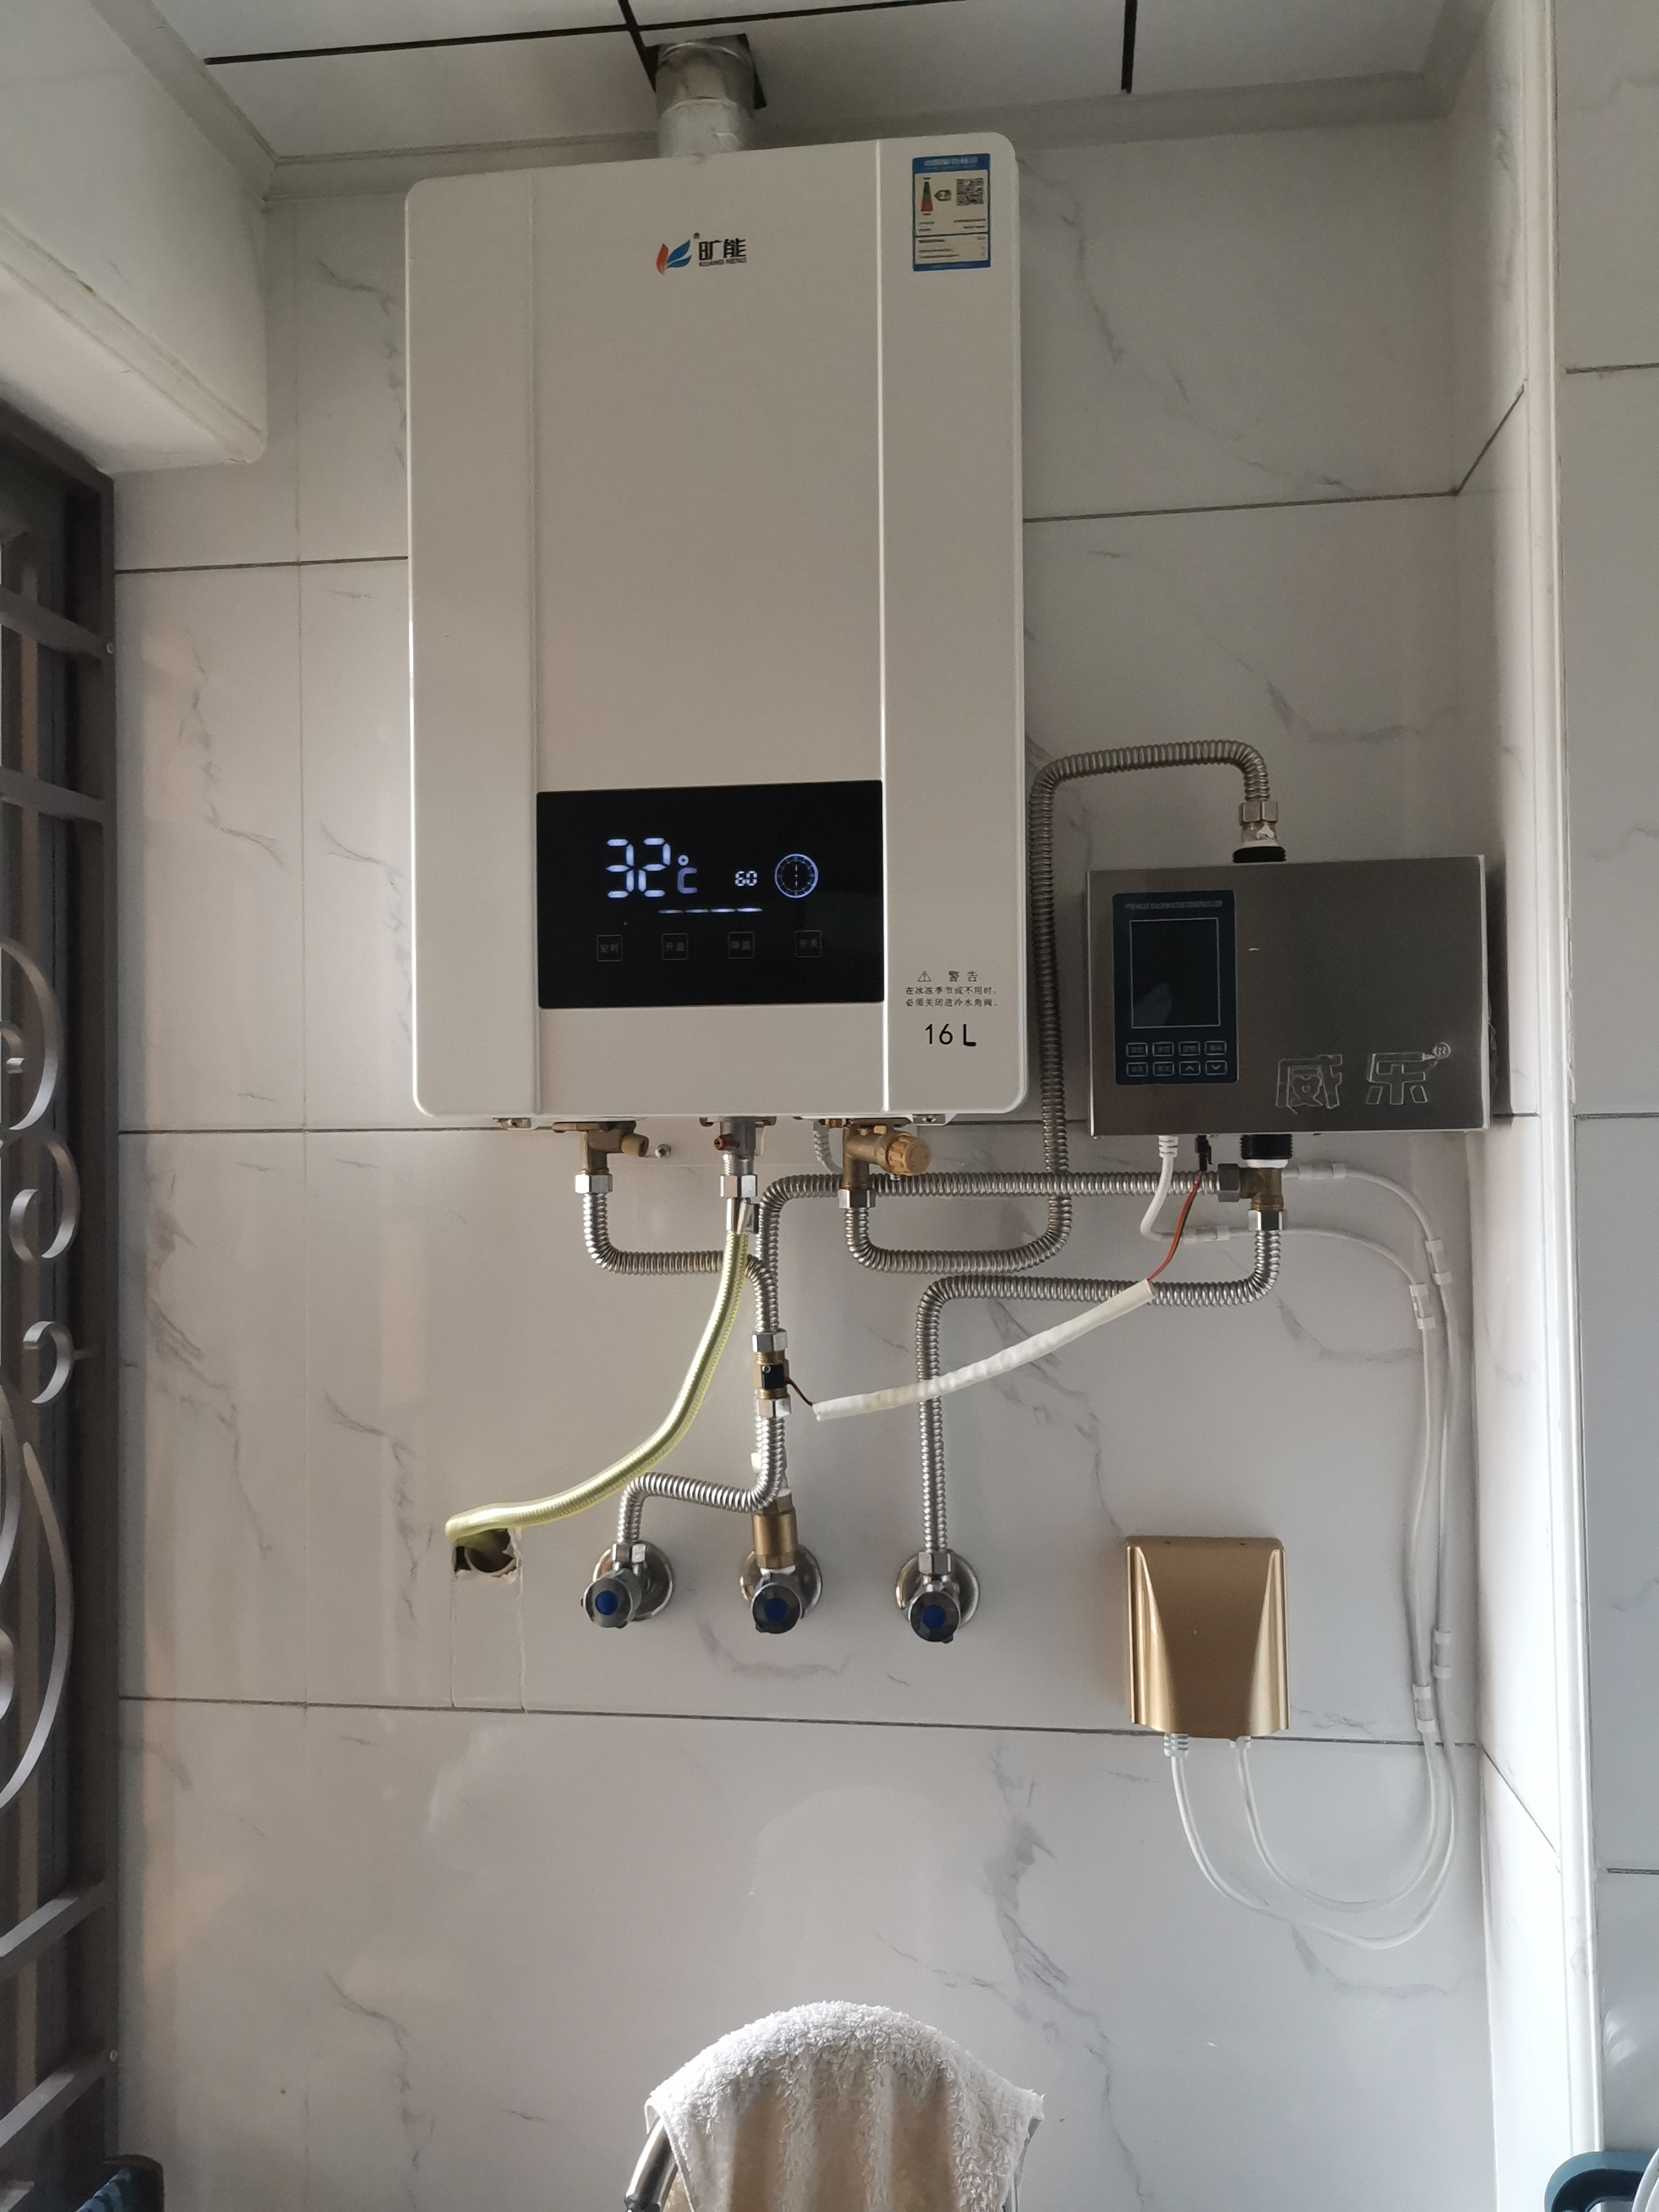loudou: (643, 225, 781, 287)
